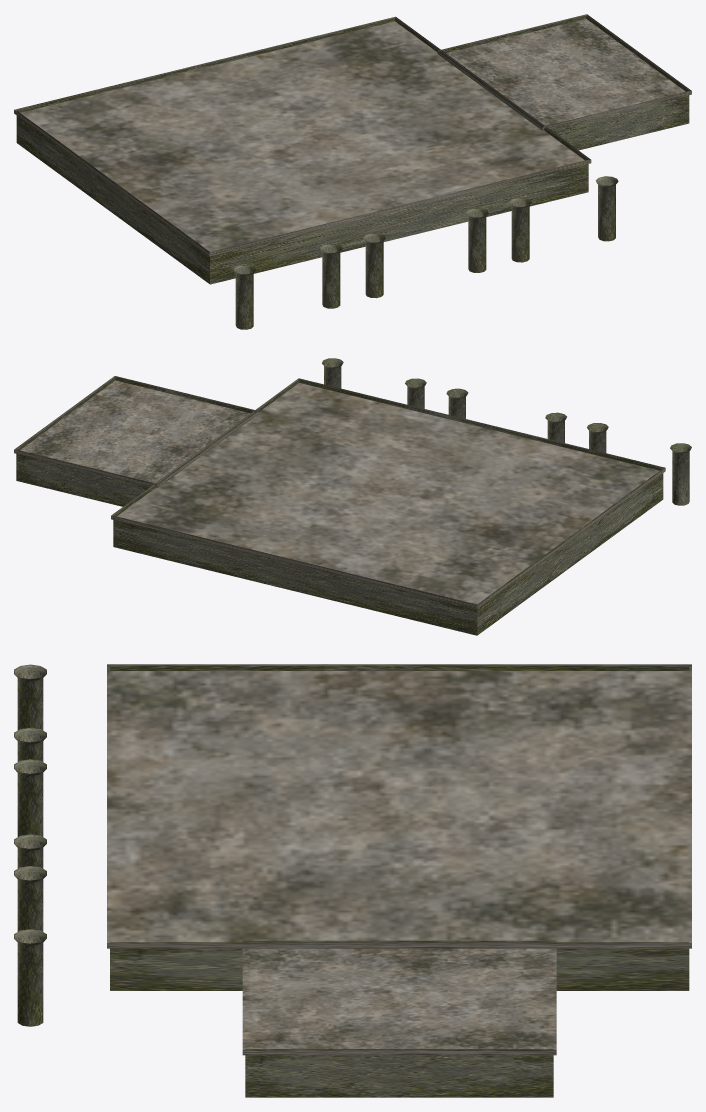
File: tea_foundation.glb
3 renders of one model, top to bottom at view 1: azimuth 30°, elevation 25°; view 2: azimuth 150°, elevation 25°; view 3: azimuth 270°, elevation 25°, orthographic. The views are drawn at different scales.
Parts seen in each view (by area): view 1: tea_foundation0; view 2: tea_foundation0; view 3: tea_foundation0.
Boxes of the visible parts, x1,y1,x2,y2 form: tea_foundation0: [14, 14, 691, 329]; tea_foundation0: [14, 358, 691, 635]; tea_foundation0: [14, 664, 691, 1097].
Bounding box in the file's own units: 19.53 × 2.01 × 14.51.
Materials: 1 (1 with a texture image).
